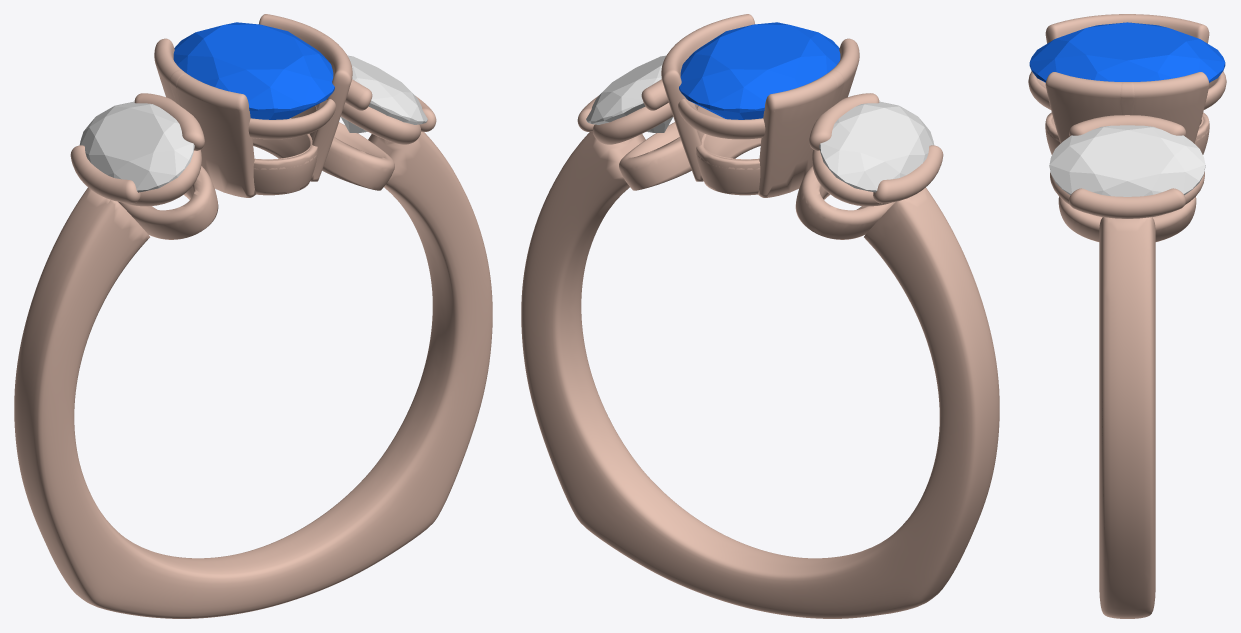
File: bluesapphire-oval-rosegold-halfmoonbezel-europeanshank-3stone.glb
3 views of the same model, side by side, from view 1: azimuth 30°, elevation 25°; view 2: azimuth 150°, elevation 25°; view 3: azimuth 270°, elevation 25° (orthographic). The views are drawn at different scales.
Visible parts, largest first — view 1: metal, stone.003, side.006, side.007; view 2: metal, stone.003, side.006, side.007; view 3: metal, side.007, stone.003.
Part boxes in pixels (x1,y1,x2,y2): metal: (14,14,492,618); stone.003: (173,22,334,119); side.006: (79,101,194,192); side.007: (340,55,427,133); metal: (521,14,999,618); stone.003: (679,22,840,119); side.006: (819,101,934,192); side.007: (586,55,673,132); metal: (1028,14,1226,618); side.007: (1049,125,1205,196); stone.003: (1029,22,1225,82).
Size of the model in its own units: 20.1 by 23.21 by 7.75.
